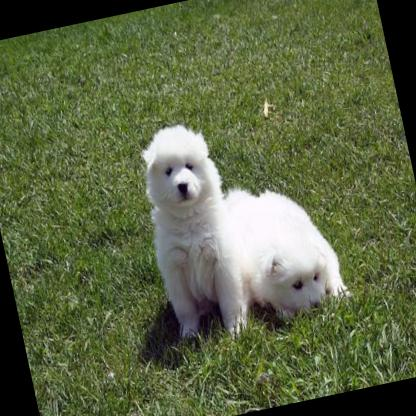Samoyed: (129, 115, 254, 349), (219, 161, 353, 328)
